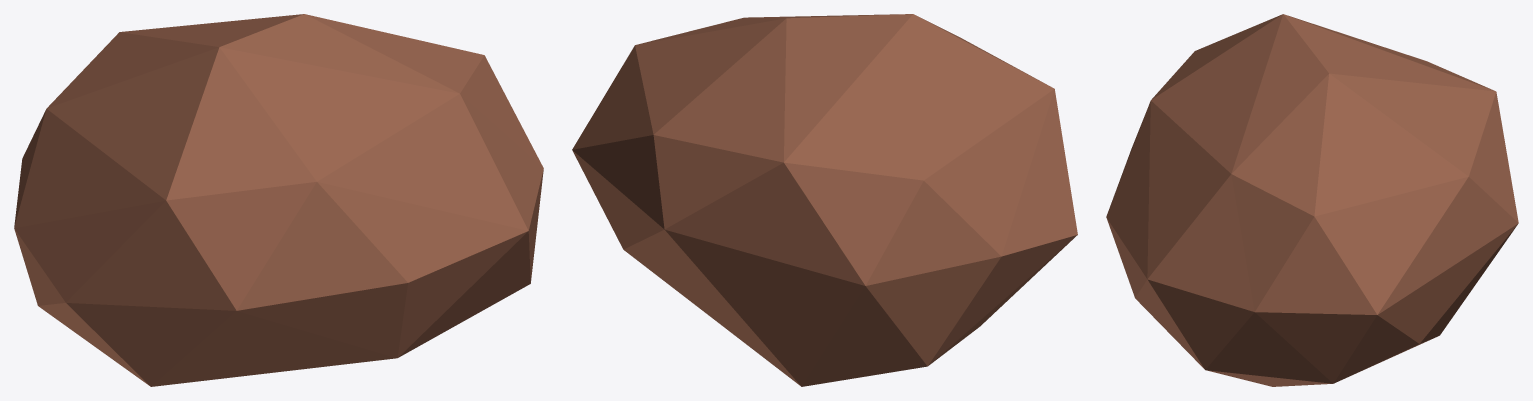
The model's file is decor_rock_01.glb.
3 renders of one model, left to right at view 1: azimuth 30°, elevation 25°; view 2: azimuth 150°, elevation 25°; view 3: azimuth 270°, elevation 25°, orthographic. The views are drawn at different scales.
Parts seen in each view (by area): view 1: decor_rock_01; view 2: decor_rock_01; view 3: decor_rock_01.
Boxes of the visible parts, x1,y1,x2,y2 form: decor_rock_01: (14, 14, 543, 386); decor_rock_01: (572, 14, 1077, 386); decor_rock_01: (1106, 14, 1518, 386).
Bounding box in the file's own units: 1.99 × 1.37 × 1.66.
